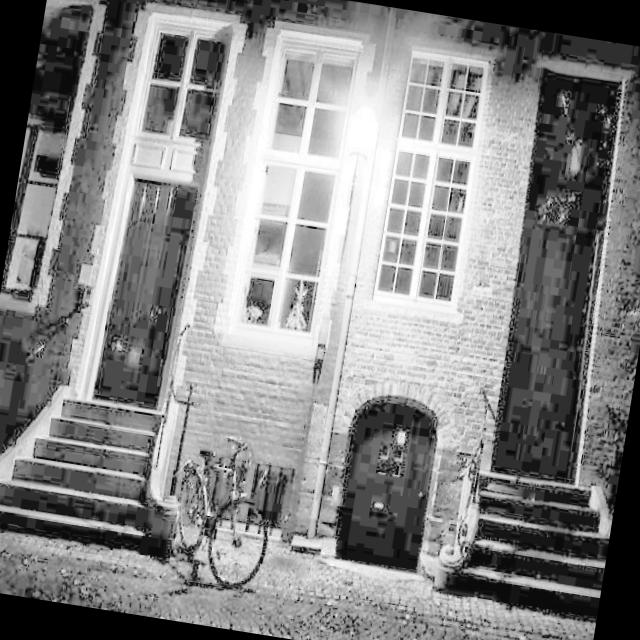Bicycle: (90, 400, 292, 614)
